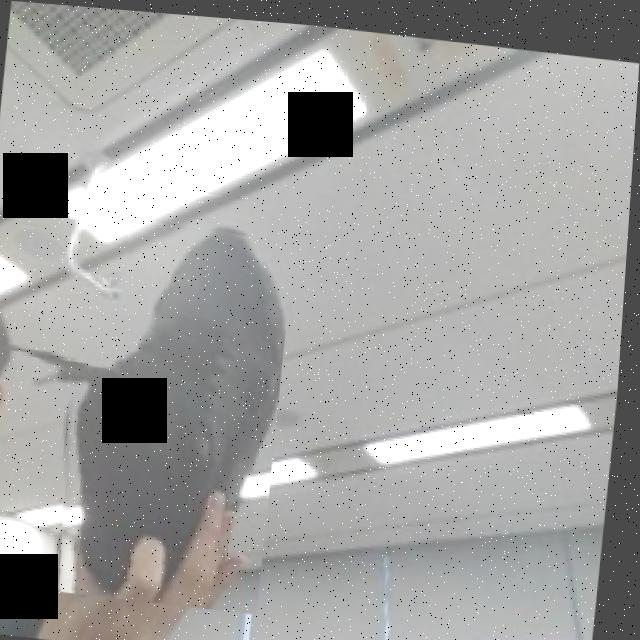shoe: (47, 207, 298, 610)
